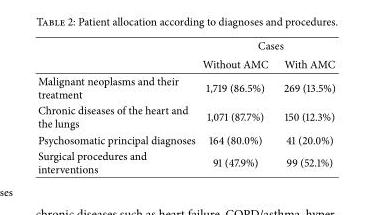table: (37, 37, 334, 176)
table column: (37, 37, 198, 176), (198, 37, 275, 176), (275, 37, 334, 176)
table column header: (37, 37, 334, 72)
table row: (37, 101, 334, 131), (37, 72, 334, 101), (37, 147, 334, 176), (37, 54, 334, 72), (37, 37, 334, 54), (37, 131, 334, 147)
table spanning cell: (198, 37, 334, 54)
